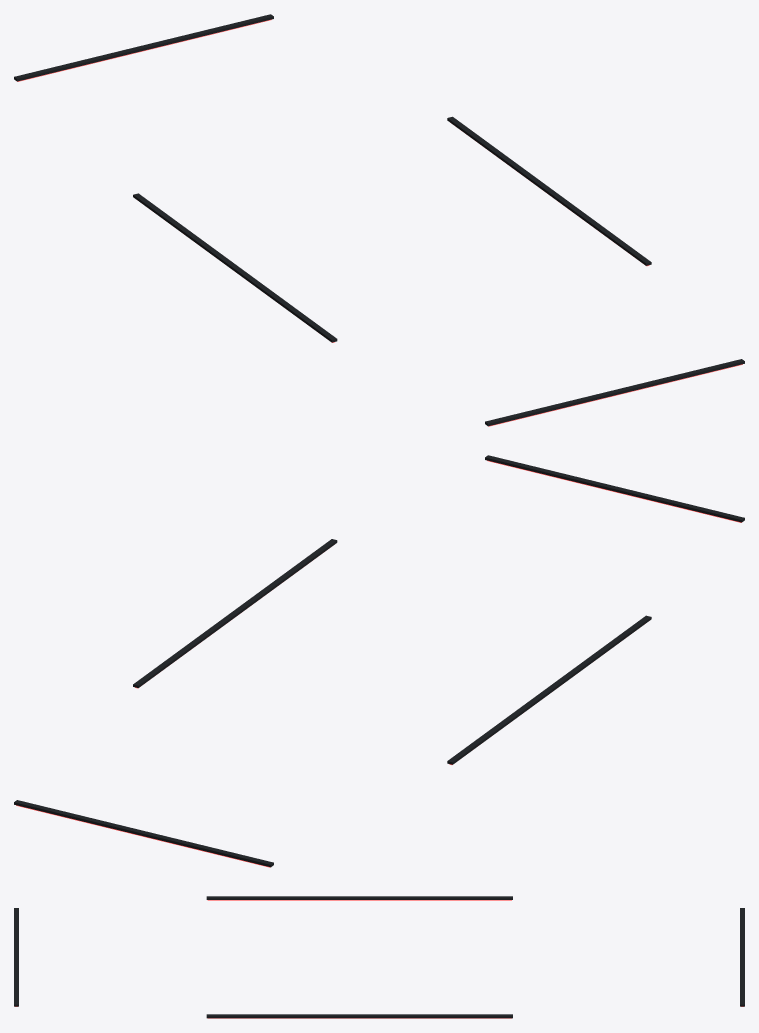
File: apex_v8.glb
3 renders of one model, top to bottom at view 1: azimuth 30°, elevation 25°; view 2: azimuth 150°, elevation 25°; view 3: azimuth 270°, elevation 25°, orthographic. The views are drawn at different scales.
Visible parts, largest first — view 1: model; view 2: model; view 3: model.
Part boxes in pixels (x1=…): model: x1=14, y1=14, x2=744, y2=426; model: x1=14, y1=455, x2=744, y2=867; model: x1=14, y1=896, x2=744, y2=1018.
Size of the model in its own units: 1.64 by 0.018 by 4.21.
2 materials, 1 textured.
